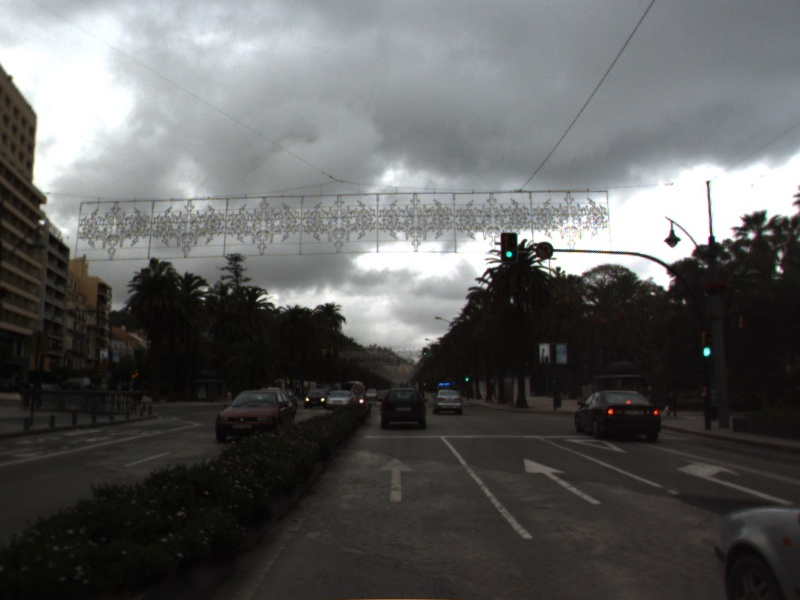RIGHT: (675, 456, 797, 507)
STRAIGHT: (522, 456, 606, 507), (374, 455, 419, 504)
